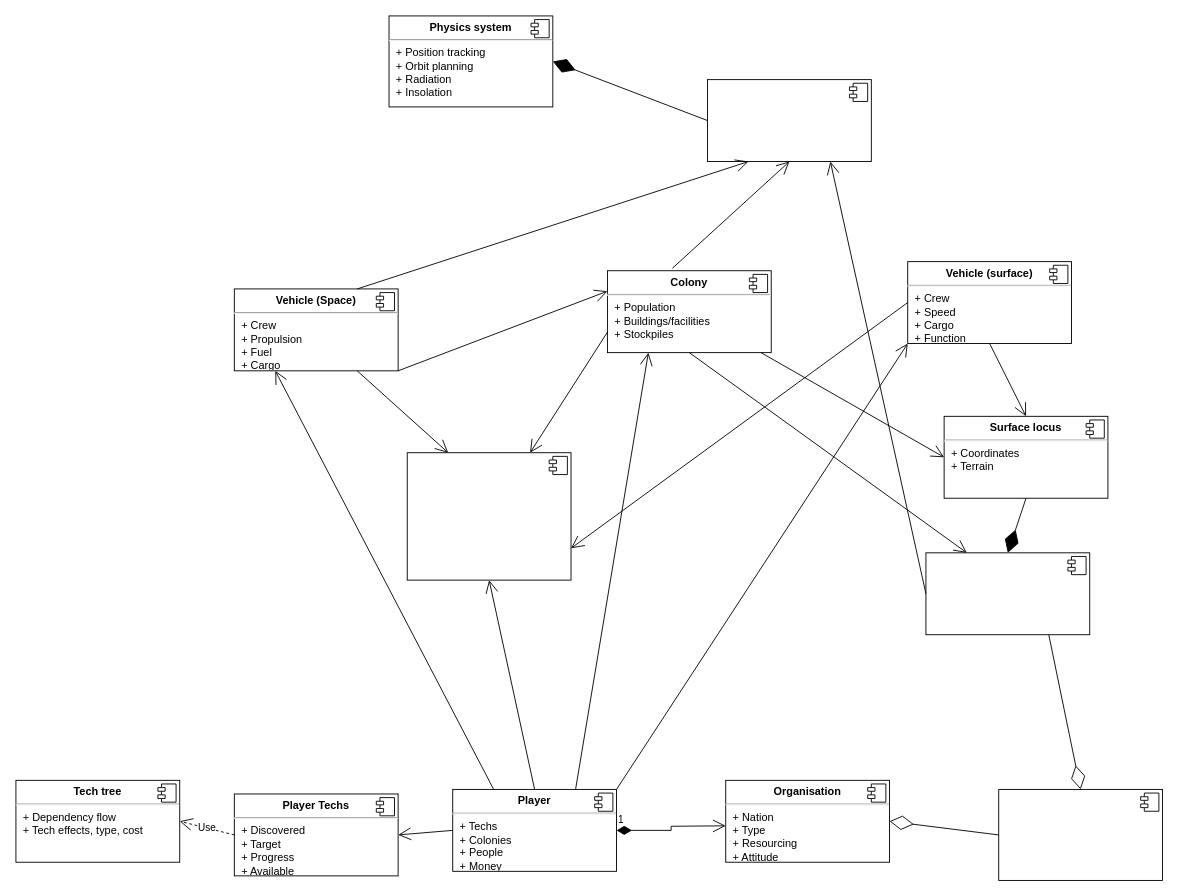
This 1178x896 diagram has some shape labels left out. Each missing label, with the centre of its shape:
Human + Age + Sex + Health + Skills + Motivation + Relationships + Task: the point at 488,516
Nation + Population + Government + Budget + Territory: the point at 1080,834
Particle + Position + Luminance + Mass: the point at 789,120
Planetary system + Surface + Atmosphere + Gravity: the point at 1007,593
